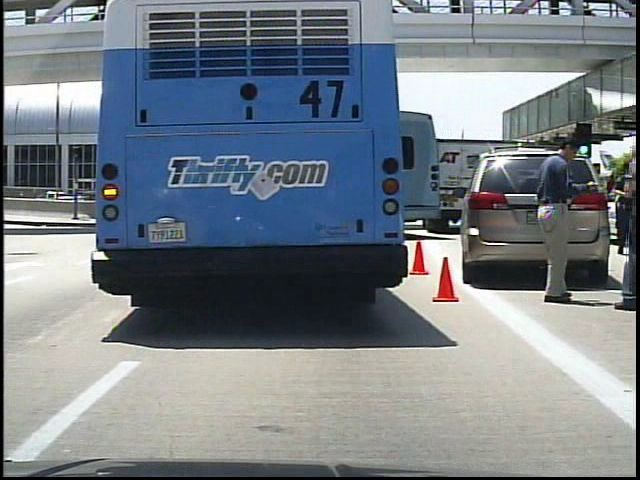person: (531, 128, 594, 308)
